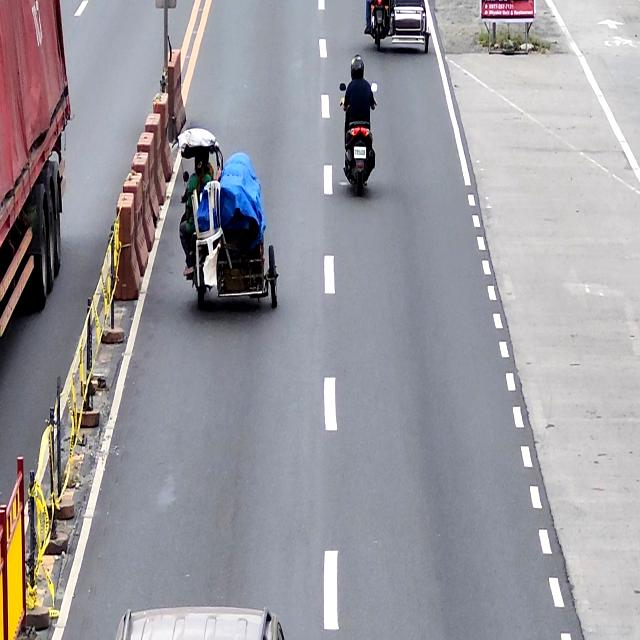License-Plate: (353, 146, 366, 158)
Motorcycle: (339, 77, 378, 197)
Tricycle: (176, 130, 280, 306), (364, 0, 430, 51)
